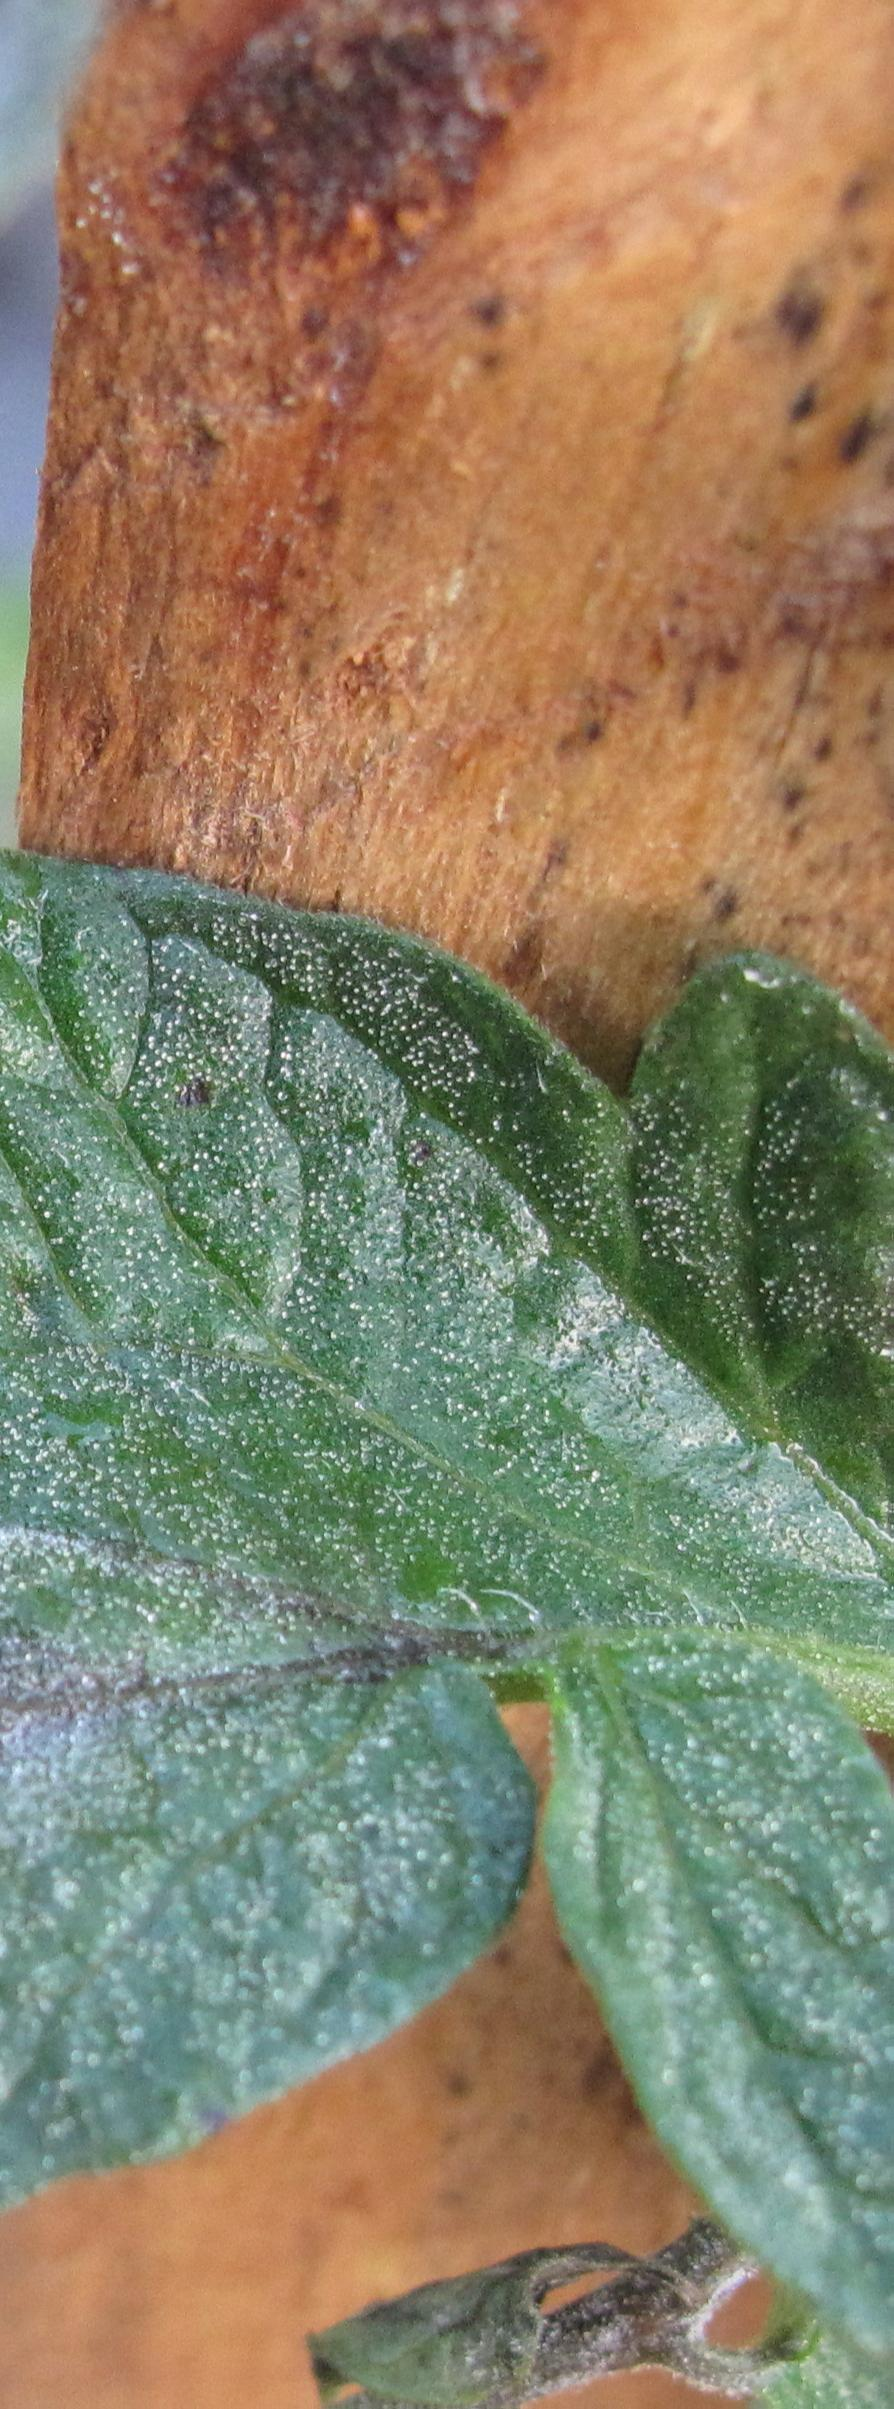Tomato leaf late blight: (0, 813, 894, 2409)
